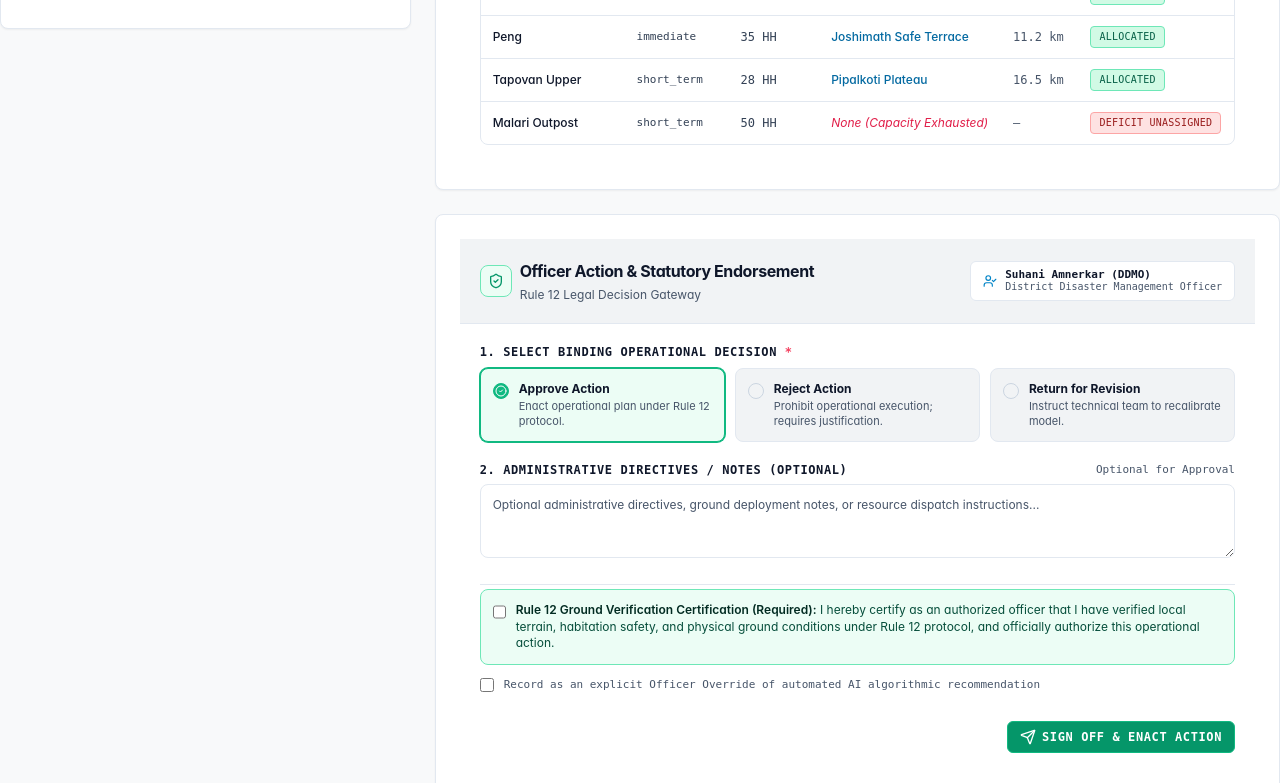
Test: Officer Review & Action Sign-Off UI Suite (Chunk M6-08) › 7. Approve Action: requires statutory confirmation checkbox before approval
This screenshot has width=1280, height=783.
(page scrolled)
Note: Submit button without checking confirmation
Click the button "Sign Off & Enact Action" at (1121, 737), box left=1007, top=721, right=1235, bottom=753
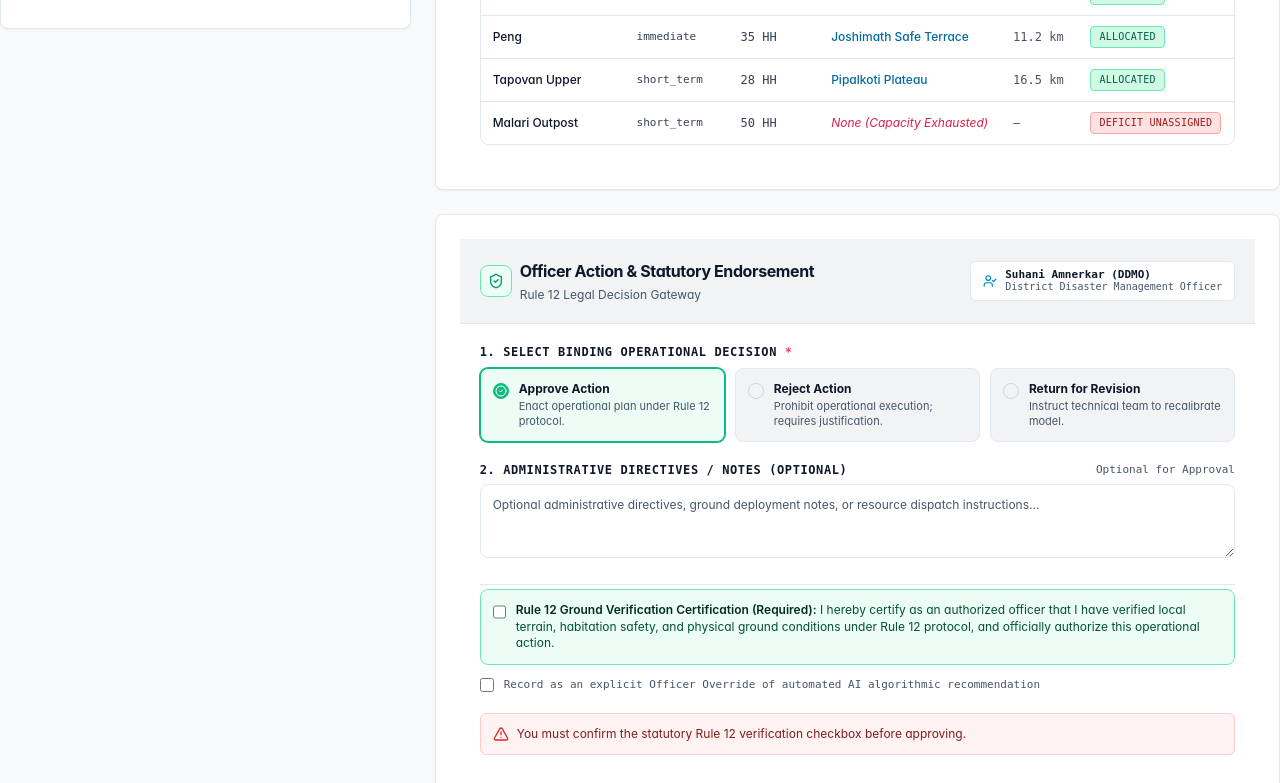
Expected: the text "You must confirm the statutory Rule 12 verification checkbox before approving" is shown, left=517, top=726, right=966, bottom=741
